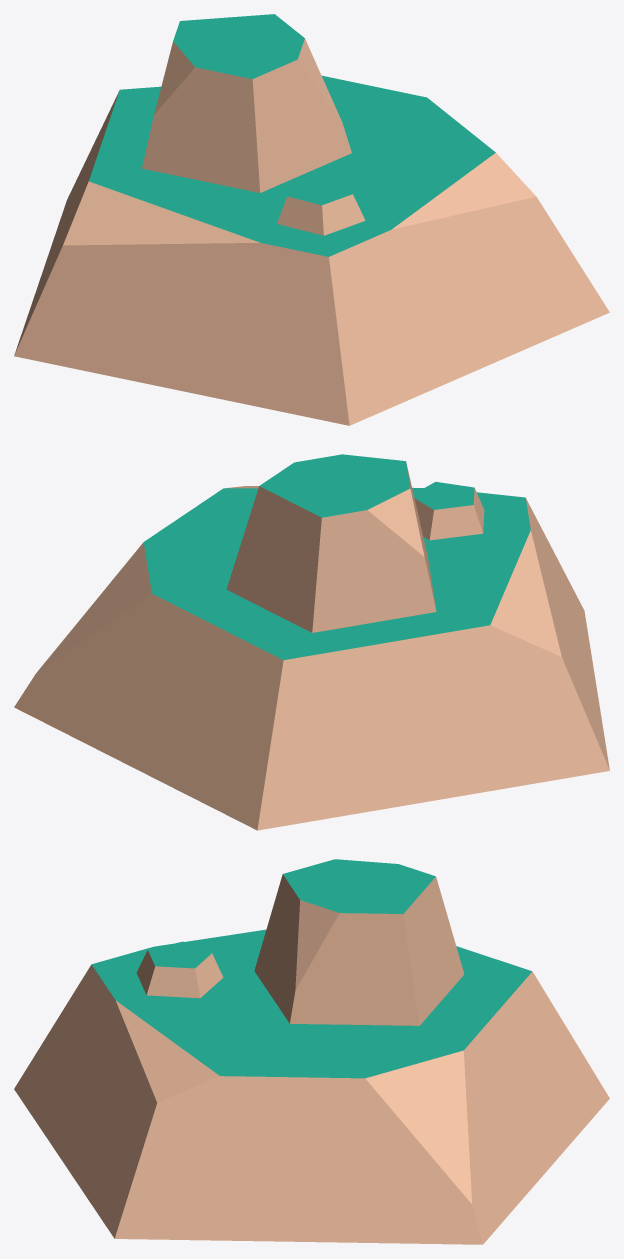
Rendered from rock_smallTopB.glb.
3 renders of one model, top to bottom at view 1: azimuth 30°, elevation 25°; view 2: azimuth 150°, elevation 25°; view 3: azimuth 270°, elevation 25°, orthographic. The views are drawn at different scales.
Visible parts, largest first — view 1: rock_smallTopB; view 2: rock_smallTopB; view 3: rock_smallTopB.
Part boxes in pixels (bbox=[...]): rock_smallTopB: bbox=[14, 14, 609, 425]; rock_smallTopB: bbox=[14, 454, 609, 830]; rock_smallTopB: bbox=[14, 859, 609, 1244].
Bounding box in the file's own units: 0.7466 × 0.336 × 0.7755.
